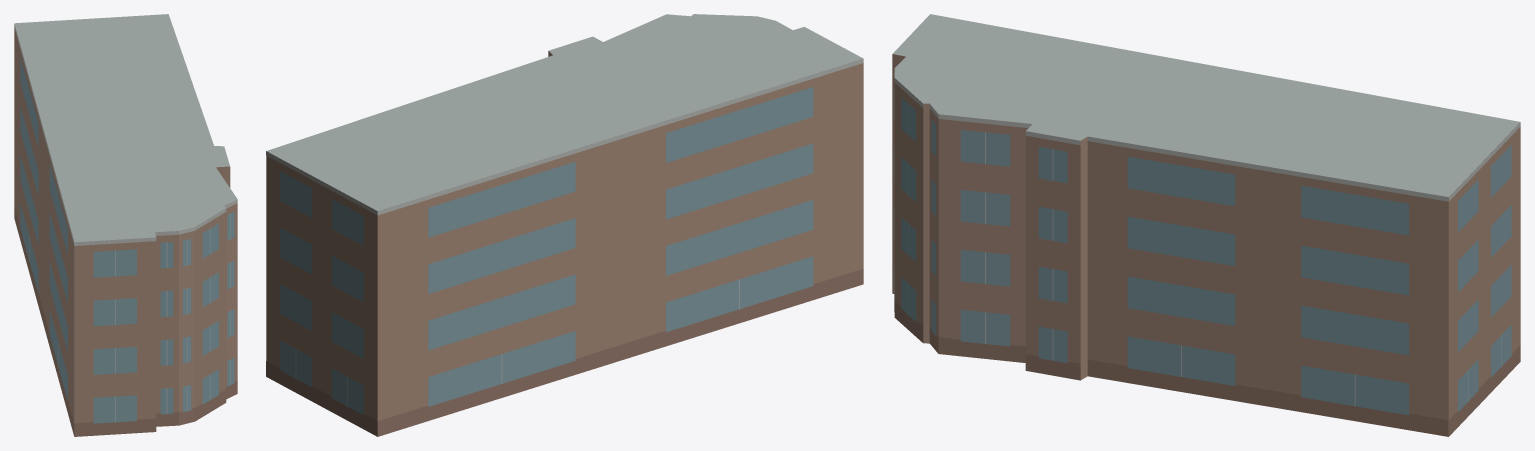
Rendered from survey-upis-32804450.glb.
3 renders of one model, left to right at view 1: azimuth 30°, elevation 25°; view 2: azimuth 150°, elevation 25°; view 3: azimuth 270°, elevation 25°, orthographic. The views are drawn at different scales.
Visible parts, largest first — view 1: survey-upis-32804450.tmp; view 2: survey-upis-32804450.tmp; view 3: survey-upis-32804450.tmp.
Boxes of the visible parts, x1,y1,x2,y2 form: survey-upis-32804450.tmp: [14, 14, 237, 436]; survey-upis-32804450.tmp: [266, 14, 863, 436]; survey-upis-32804450.tmp: [892, 14, 1520, 436].
Size of the model in its own units: 20.98 by 12.8 by 30.41.
